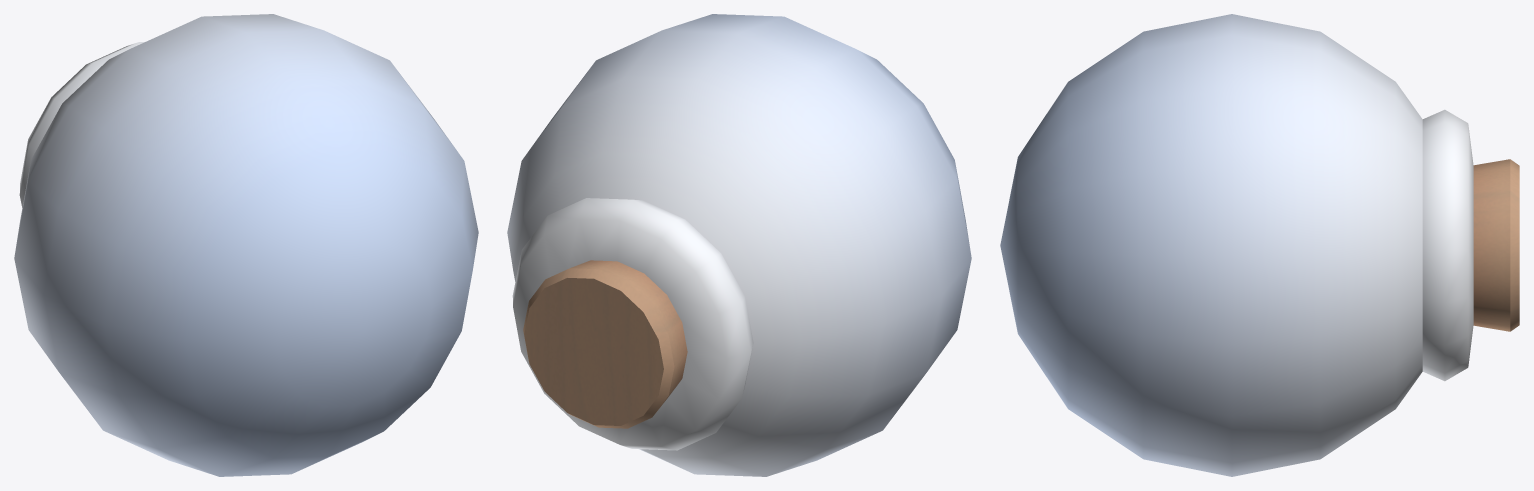
The model's file is Potion1.FBX.
3 renders of one model, left to right at view 1: azimuth 30°, elevation 25°; view 2: azimuth 150°, elevation 25°; view 3: azimuth 270°, elevation 25°, orthographic.
Parts seen in each view (by area): view 1: Potion1; view 2: Potion1; view 3: Potion1.
Part boxes in pixels (left/top/right/bottom): Potion1: left=14, top=14, right=478, bottom=476; Potion1: left=507, top=14, right=971, bottom=476; Potion1: left=1000, top=14, right=1519, bottom=476.
Size of the model in its own units: 26.56 by 26.56 by 29.76.
2 materials, 2 textured.
